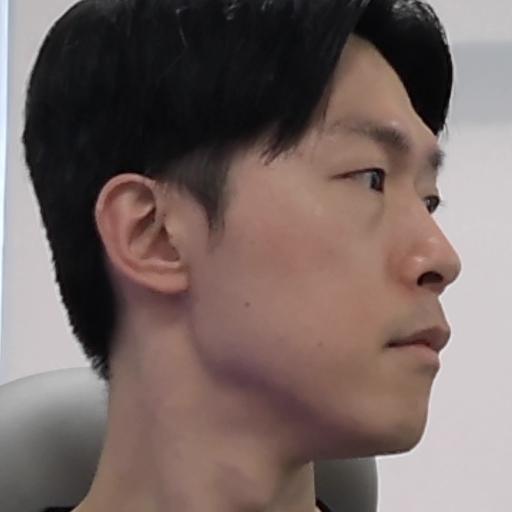no_glasses: (9, 0, 486, 465)
